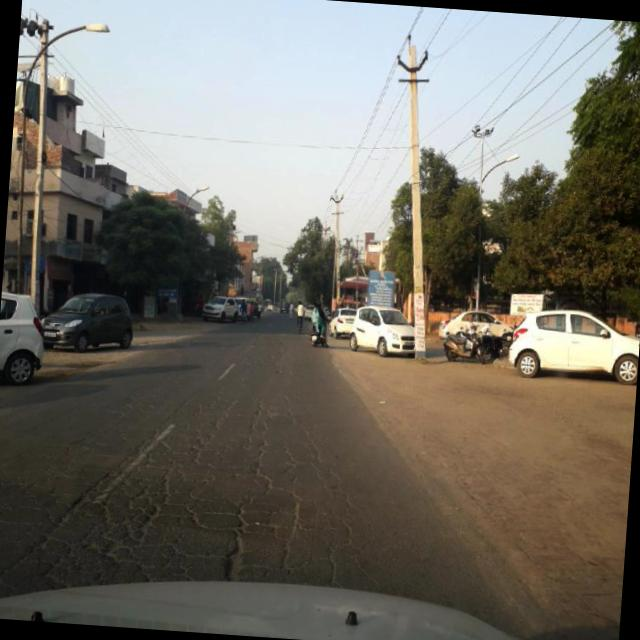crack: (6, 436, 354, 588), (128, 378, 328, 459)
